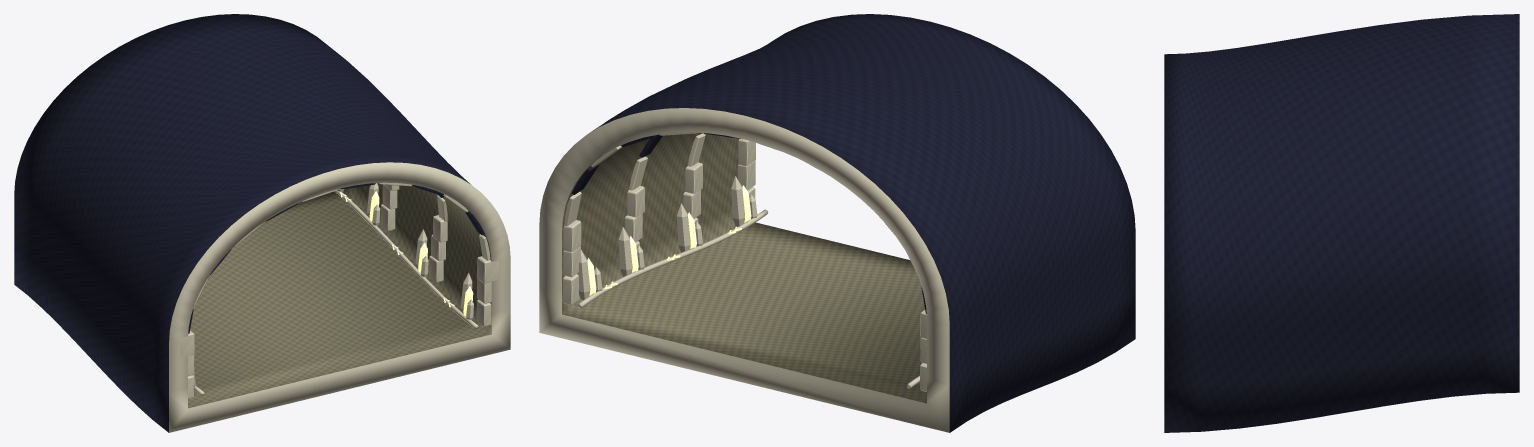
File: grade_up_lod1.glb
3 renders of one model, left to right at view 1: azimuth 30°, elevation 25°; view 2: azimuth 150°, elevation 25°; view 3: azimuth 270°, elevation 25°, orthographic. The views are drawn at different scales.
Parts seen in each view (by area): view 1: TunnelGeometry.001; view 2: TunnelGeometry.001; view 3: TunnelGeometry.001.
Boxes of the visible parts, x1,y1,x2,y2 form: TunnelGeometry.001: [14, 14, 510, 432]; TunnelGeometry.001: [539, 14, 1135, 432]; TunnelGeometry.001: [1164, 14, 1519, 432].
Size of the model in its own units: 15.3 by 11.02 by 12.
4 materials, 2 textured.
